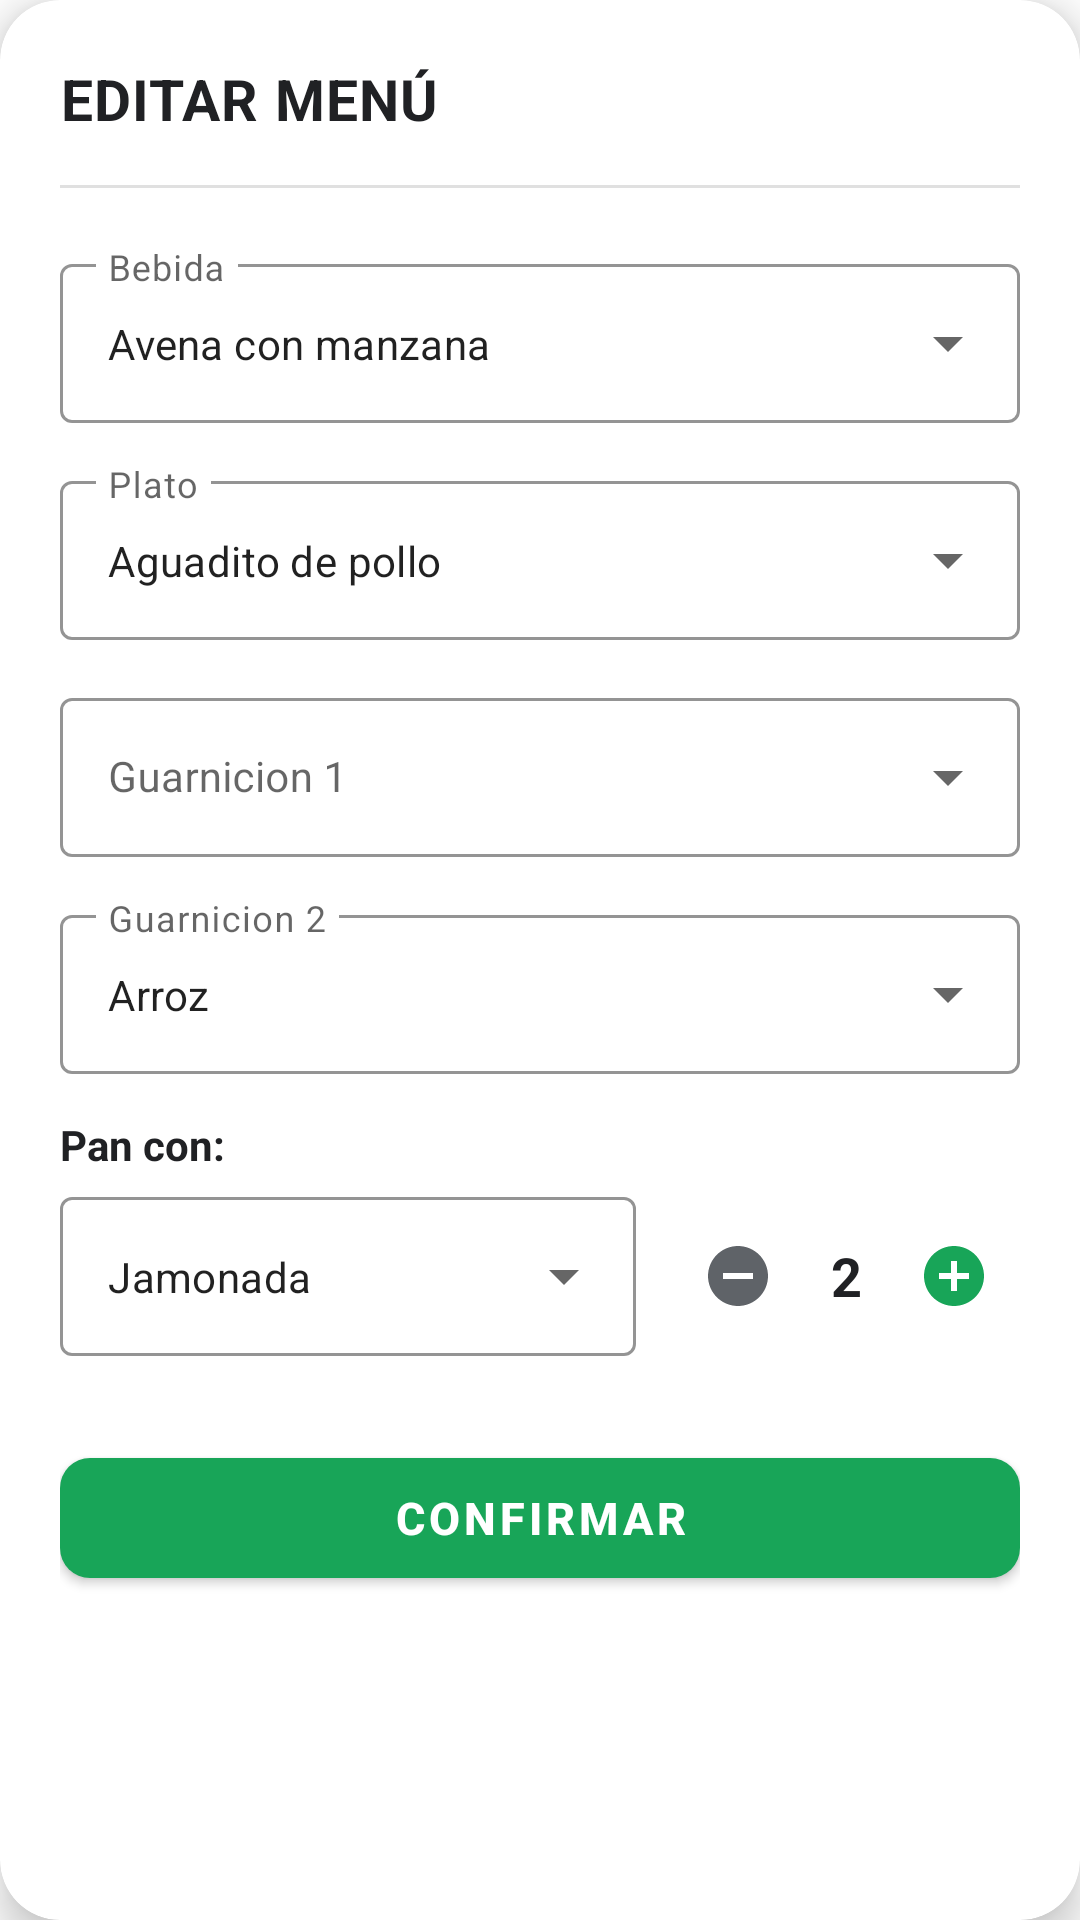

Screen size 1080x1920. Icon name, then its center in pixels as [x,y]:
add circle: [954,1276]
remove circle: [738,1276]
